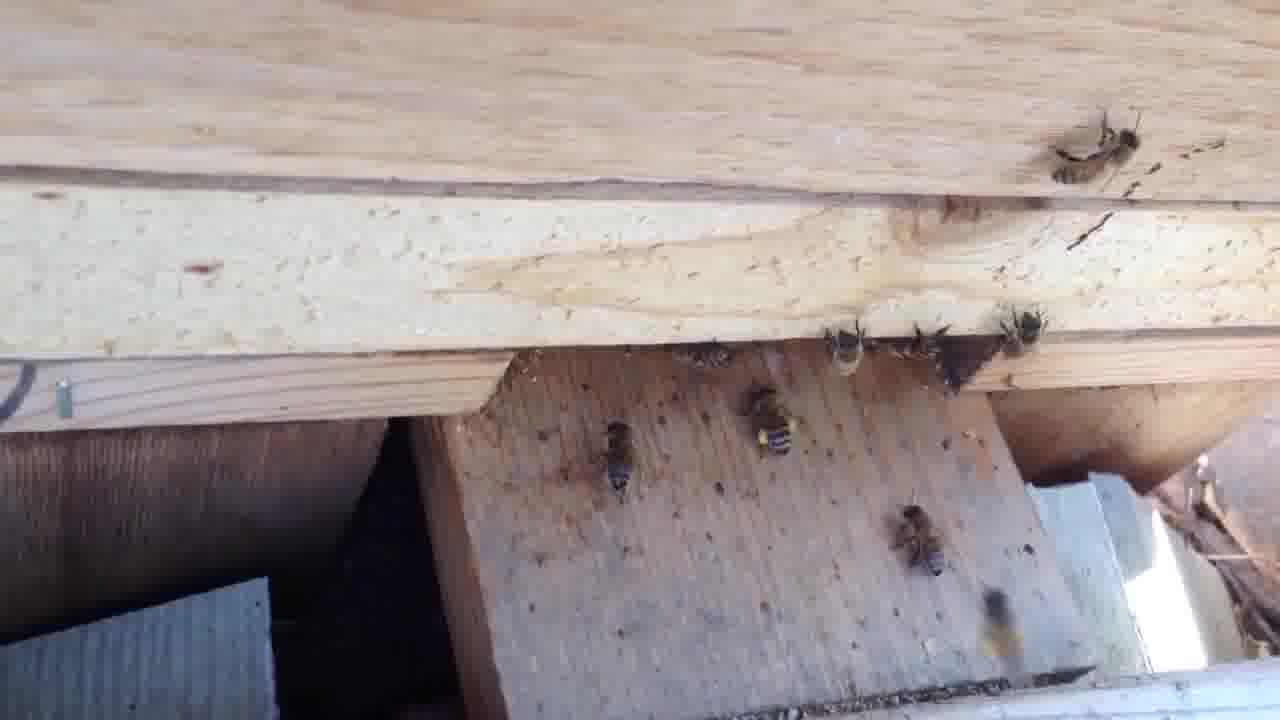pollen: (738, 377, 803, 461)
